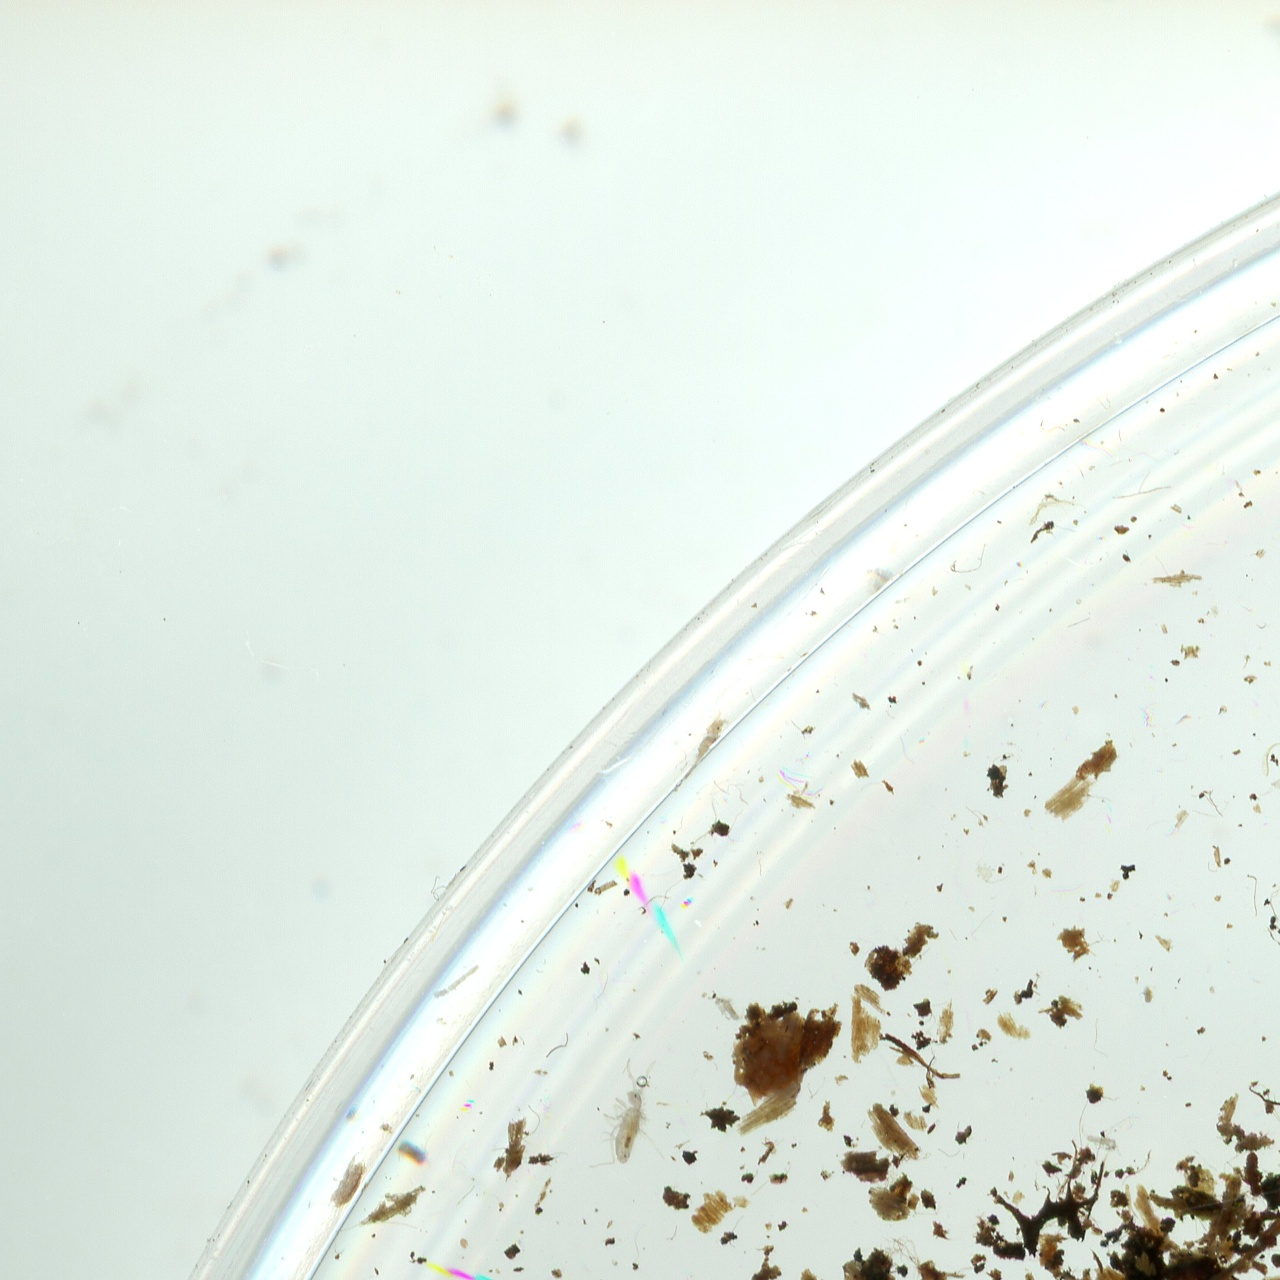arthropod: (587, 1055, 669, 1171), (676, 704, 737, 782), (1251, 753, 1280, 810), (707, 988, 747, 1022), (1084, 1132, 1124, 1153)
